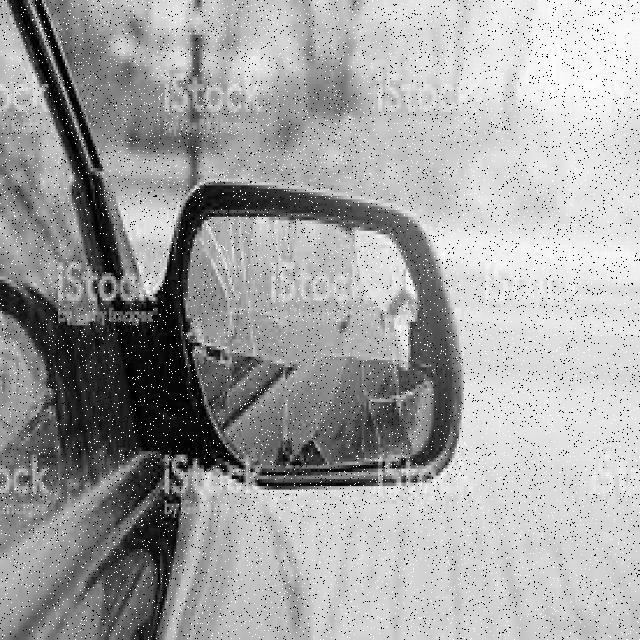Sidemirror-Damage: (145, 172, 476, 497)
